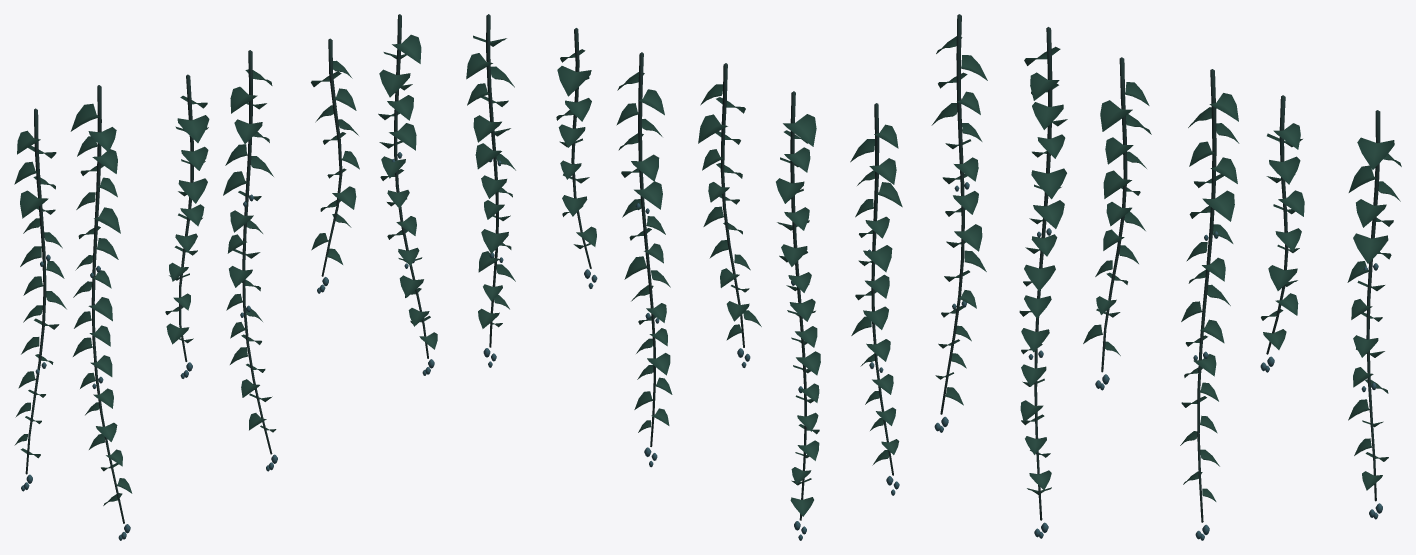
Rendered from vines_lod0.glb.
3 views of the same model, side by side, from view 1: azimuth 30°, elevation 25°; view 2: azimuth 150°, elevation 25°; view 3: azimuth 330°, elevation 25° (orthographic). The views are drawn at different scales.
Visible parts, largest first — view 1: vines_lod0; view 2: vines_lod0; view 3: vines_lod0.
Part boxes in pixels (left/top/right/bottom): vines_lod0: left=14, top=14, right=437, bottom=540; vines_lod0: left=466, top=14, right=902, bottom=540; vines_lod0: left=931, top=14, right=1401, bottom=540.
Bounding box in the file's own units: 3.72 × 3.88 × 0.588.
